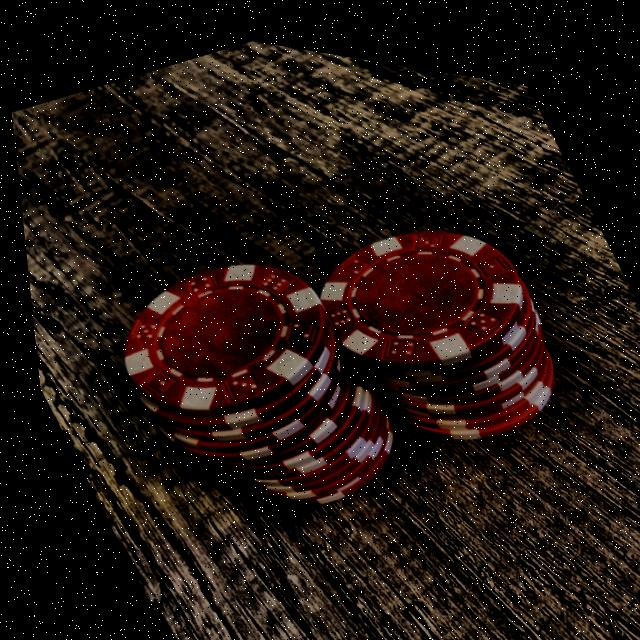Chip: (67, 202, 421, 568), (283, 165, 591, 479)
